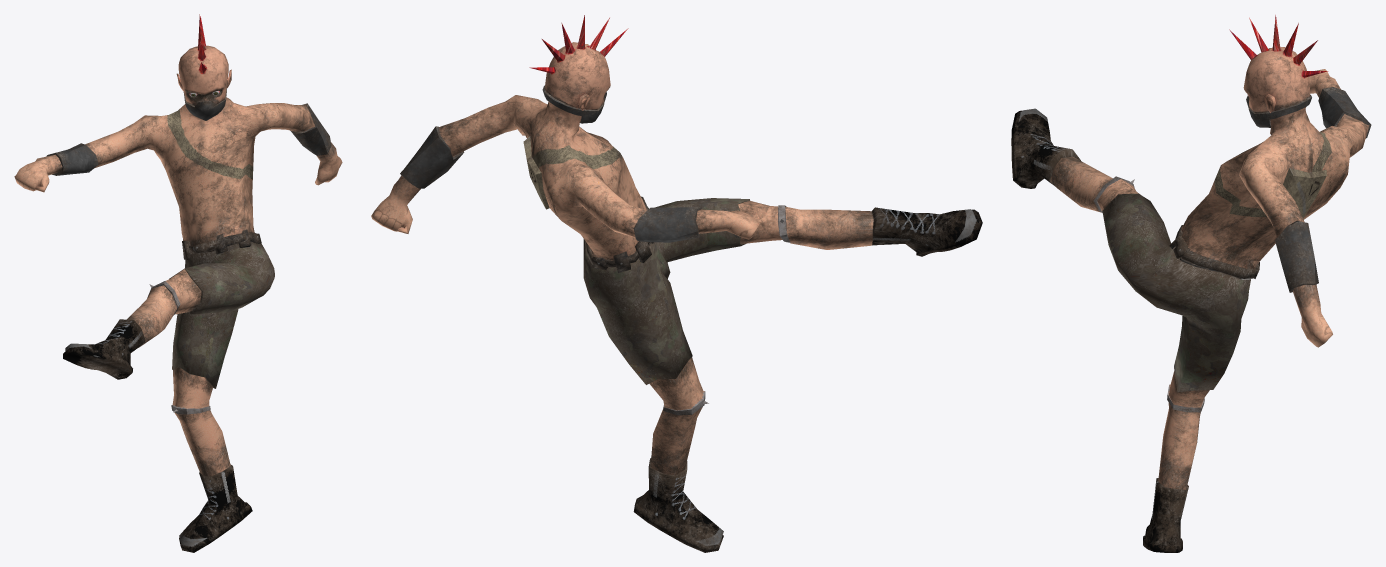
File: Anim_ataque_f3_npc2.0031.obj
3 renders of one model, left to right at view 1: azimuth 30°, elevation 25°; view 2: azimuth 150°, elevation 25°; view 3: azimuth 270°, elevation 25°, orthographic. The views are drawn at different scales.
Visible parts, largest first — view 1: polySurface1; view 2: polySurface1; view 3: polySurface1.
Boxes of the visible parts, x1,y1,x2,y2 form: polySurface1: [14, 14, 342, 552]; polySurface1: [371, 15, 982, 552]; polySurface1: [1011, 15, 1371, 552].
Bounding box in the file's own units: 8.61 × 9.91 × 5.71.
